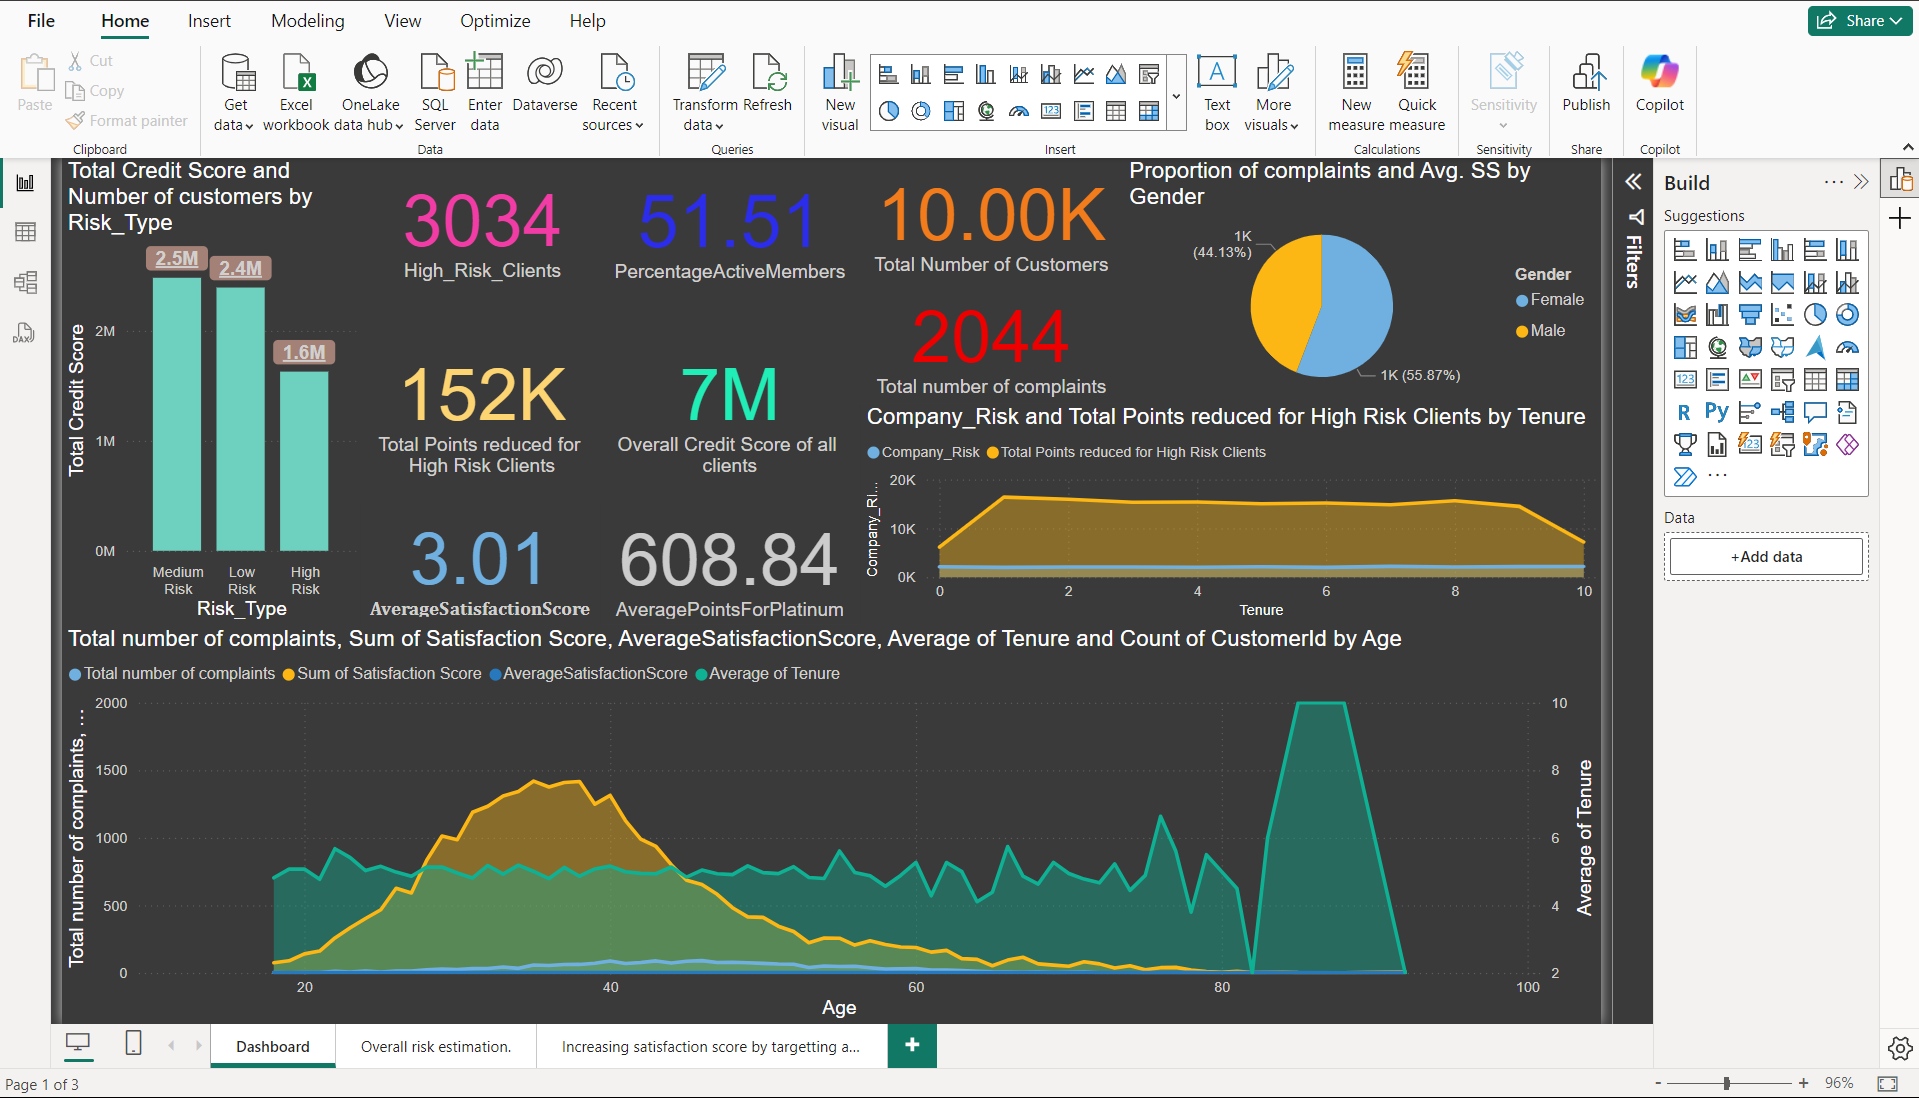

This screenshot's page, from the dashboard's own definition file:
{"tool":"powerbi","page":{"name":"Dashboard","canvas":[1280,720],"ordinal":0},"visuals":[{"type":"card","fields":{"Values":["Customer-Churn-Records.AveragePointsForPlatinum"]},"box":[447.7,288.4,215.1,100],"z":0},{"type":"card","fields":{"Values":["Customer-Churn-Records.PercentageActiveMembers"]},"box":[447.7,0,215.1,112.8],"z":1000},{"type":"areaChart","fields":{"Category":["Customer-Churn-Records.Tenure"],"Y":["Customer-Churn-Records.Company_Risk","Customer-Churn-Records.Total Points reduced for High Risk Clients"]},"box":[664,204.7,616.3,182.6],"z":2000},{"type":"card","fields":{"Values":["Customer-Churn-Records.Overall Credit Score of all clients"]},"box":[447.7,112.8,215.1,175.6],"z":3000},{"type":"card","fields":{"Values":["Customer-Churn-Records.Sum of Reduction for High Risk Clients"]},"box":[250,112.8,197.7,175.6],"z":4000},{"type":"card","fields":{"Values":["Customer-Churn-Records.RiskCategories"]},"box":[250,0,198.8,112.8],"z":5000},{"type":"columnChart","fields":{"Y":["Sum(Customer-Churn-Records.CreditScore)"],"Category":["Customer-Churn-Records.Risk_Type"]},"box":[0,0,250,388.4],"z":6000},{"type":"areaChart","fields":{"Category":["Customer-Churn-Records.Age"],"Y":["Customer-Churn-Records.Total number of complaints","Sum(Customer-Churn-Records.Satisfaction Score)","Customer-Churn-Records.AverageSatisfactionScore"],"Y2":["Avg(Customer-Churn-Records.Tenure)"]},"box":[0,388.4,1280.2,331.4],"z":7000},{"type":"pieChart","fields":{"Category":["Customer-Churn-Records.Gender"],"Y":["Customer-Churn-Records.CountCustomerComplaints"]},"box":[882.6,0,397.7,204.7],"z":8000},{"type":"card","fields":{"Values":["Customer-Churn-Records.AverageSatisfactionScore"]},"box":[248.8,288.4,198.8,98.8],"z":9000},{"type":"card","fields":{"Values":["Count(Customer-Churn-Records.CustomerId)"]},"box":[662.8,0,219.8,102.3],"z":10000},{"type":"card","fields":{"Values":["Customer-Churn-Records.Total number of complaints"]},"box":[662.8,102.3,219.8,102.3],"z":11000}]}

Visuals, with their boxes on the page's 1280x720 design canvas (x1, y1, x2, y2). These are canvas units, not pixel positions in the 1919x1098 screenshot, which may show the page scaled, cropped or inside an application window:
card - Customer-Churn-Records.AveragePointsForPlatinum: region(448, 288, 663, 388)
card - Customer-Churn-Records.PercentageActiveMembers: region(448, 0, 663, 113)
areaChart - Customer-Churn-Records.Tenure x Customer-Churn-Records.Company_Risk: region(664, 205, 1280, 387)
card - Customer-Churn-Records.Overall Credit Score of all clients: region(448, 113, 663, 288)
card - Customer-Churn-Records.Sum of Reduction for High Risk Clients: region(250, 113, 448, 288)
card - Customer-Churn-Records.RiskCategories: region(250, 0, 449, 113)
columnChart - Sum(Customer-Churn-Records.CreditScore) x Customer-Churn-Records.Risk_Type: region(0, 0, 250, 388)
areaChart - Customer-Churn-Records.Age x Customer-Churn-Records.Total number of complaints: region(0, 388, 1280, 720)
pieChart - Customer-Churn-Records.Gender x Customer-Churn-Records.CountCustomerComplaints: region(883, 0, 1280, 205)
card - Customer-Churn-Records.AverageSatisfactionScore: region(249, 288, 448, 387)
card - Count(Customer-Churn-Records.CustomerId): region(663, 0, 883, 102)
card - Customer-Churn-Records.Total number of complaints: region(663, 102, 883, 205)
